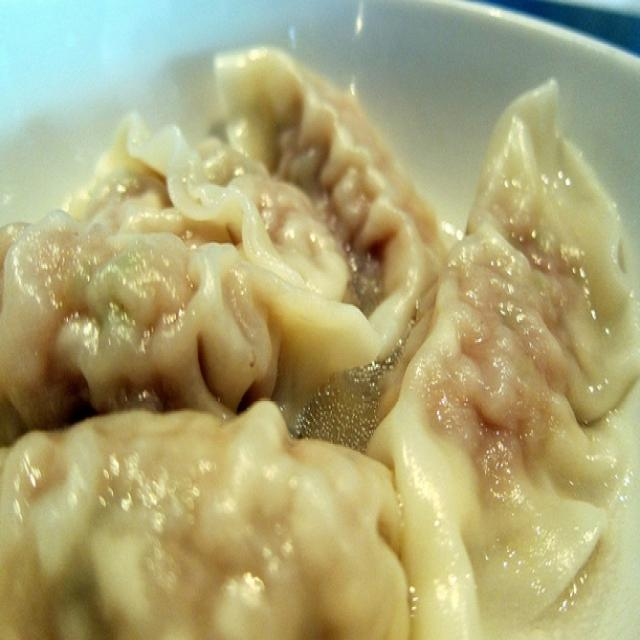带馅早点: (3, 20, 616, 618)
